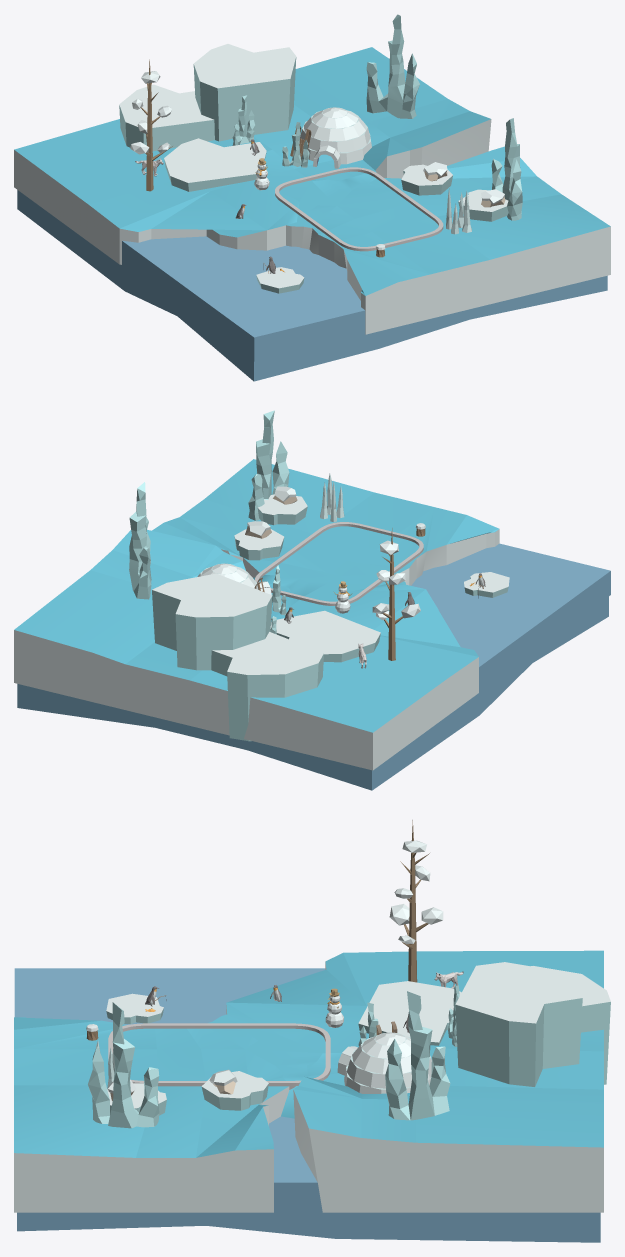
The model's file is Lvl_4.fbx.
The picture shows the model from 3 angles, top to bottom: view 1: azimuth 30°, elevation 25°; view 2: azimuth 150°, elevation 25°; view 3: azimuth 270°, elevation 25°; orthographic projection. The views are drawn at different scales.
Visible parts, largest first — view 1: nature_artic_terrain.001, floe_long.002, floe_long.003, floe_long.001, igloo.001, icicle_01__6_.002, Cube.004, icicle_01__6_.001, tree_dead_snow.001, floe_01__1_.002, floe.002, floe_01__1_.001 (+3 smaller); view 2: nature_artic_terrain.001, floe_long.002, floe_long.003, floe_long.001, icicle_01__6_.001, icicle_01__6_.002, Cube.004, tree_dead_snow.001, floe_01__1_.002, floe_01__1_.001, floe.002, igloo.001 (+1 smaller); view 3: nature_artic_terrain.001, floe_long.002, icicle_01__6_.002, icicle_01__6_.001, floe_long.001, igloo.001, tree_dead_snow.001, Cube.004, floe_long.003, floe_01__1_.002, floe.002.
Boxes of the visible parts, x1=… form: nature_artic_terrain.001: x1=14, y1=47, x2=610, y2=381; floe_long.002: x1=193, y1=44, x2=296, y2=141; floe_long.003: x1=119, y1=84, x2=214, y2=151; floe_long.001: x1=164, y1=138, x2=266, y2=191; igloo.001: x1=300, y1=107, x2=371, y2=168; icicle_01__6_.002: x1=366, y1=14, x2=419, y2=118; Cube.004: x1=275, y1=167, x2=443, y2=251; icicle_01__6_.001: x1=491, y1=118, x2=522, y2=220; tree_dead_snow.001: x1=130, y1=59, x2=172, y2=191; floe_01__1_.002: x1=401, y1=164, x2=453, y2=195; floe.002: x1=256, y1=267, x2=304, y2=293; floe_01__1_.001: x1=458, y1=189, x2=508, y2=221; nature_artic_terrain.001: x1=14, y1=459, x2=610, y2=790; floe_long.002: x1=152, y1=573, x2=272, y2=670; floe_long.003: x1=211, y1=632, x2=323, y2=741; floe_long.001: x1=270, y1=610, x2=380, y2=662; icicle_01__6_.001: x1=248, y1=410, x2=289, y2=520; icicle_01__6_.002: x1=129, y1=482, x2=151, y2=599; Cube.004: x1=255, y1=522, x2=423, y2=605; tree_dead_snow.001: x1=372, y1=528, x2=420, y2=660; floe_01__1_.002: x1=234, y1=529, x2=284, y2=560; floe_01__1_.001: x1=257, y1=494, x2=307, y2=525; floe.002: x1=464, y1=572, x2=509, y2=597; igloo.001: x1=197, y1=563, x2=271, y2=594; nature_artic_terrain.001: x1=14, y1=950, x2=603, y2=1242; floe_long.002: x1=455, y1=962, x2=582, y2=1086; icicle_01__6_.002: x1=385, y1=991, x2=450, y2=1120; icicle_01__6_.001: x1=88, y1=1002, x2=159, y2=1128; floe_long.001: x1=358, y1=981, x2=461, y2=1045; igloo.001: x1=337, y1=1032, x2=431, y2=1093; tree_dead_snow.001: x1=389, y1=820, x2=443, y2=982; Cube.004: x1=108, y1=1023, x2=330, y2=1089; floe_long.003: x1=531, y1=966, x2=610, y2=1084; floe_01__1_.002: x1=201, y1=1071, x2=268, y2=1110; floe.002: x1=106, y1=993, x2=163, y2=1023.
Size of the model in its own units: 7846 by 4148 by 9182.
